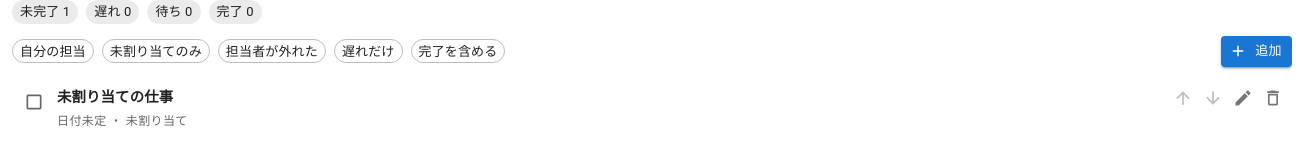
Test: フィルタのチップで一覧が絞られる (#393 8.4) › 1件も残らないときは、そもそも空っぽとは別の案内を出す
The width and height of the screenshot is (1304, 160).
Click the button "自分の担当" at coordinates (53, 51), box [12, 39, 94, 63]
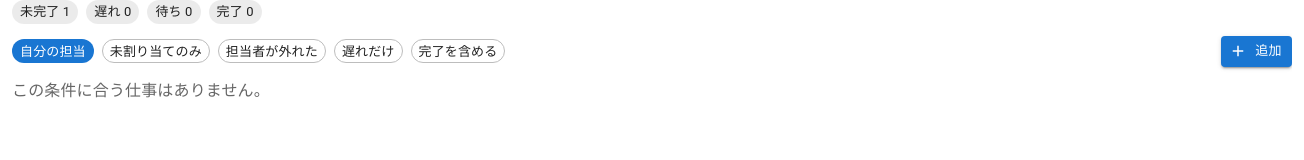
Now the text "この条件に合う仕事はありません。" is shown, box [12, 81, 270, 100]
